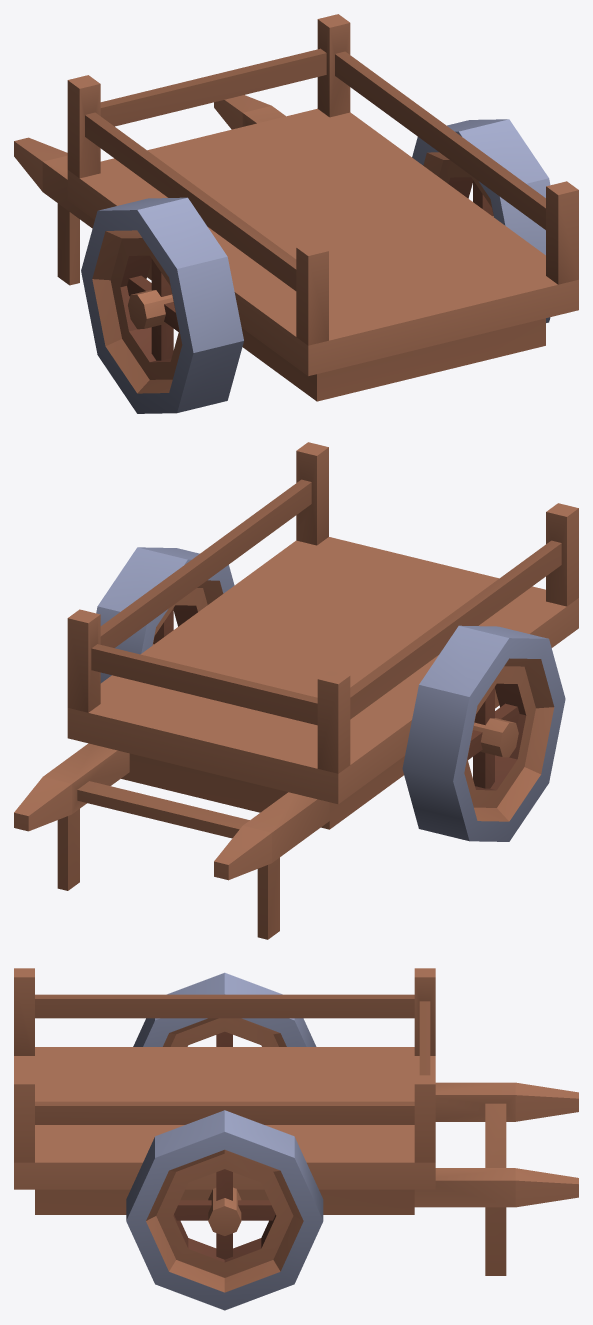
The model's file is fw_handcart_oak.glb.
The picture shows the model from 3 angles, top to bottom: view 1: azimuth 30°, elevation 25°; view 2: azimuth 150°, elevation 25°; view 3: azimuth 270°, elevation 25°; orthographic projection. The views are drawn at different scales.
Visible parts, largest first — view 1: body; view 2: body; view 3: body.
Boxes of the visible parts, box(x1,y1,x2,y2) form: body: box(14, 14, 578, 413); body: box(14, 442, 578, 939); body: box(14, 968, 578, 1310).
Size of the model in its own units: 1.61 by 0.9639 by 2.41.
